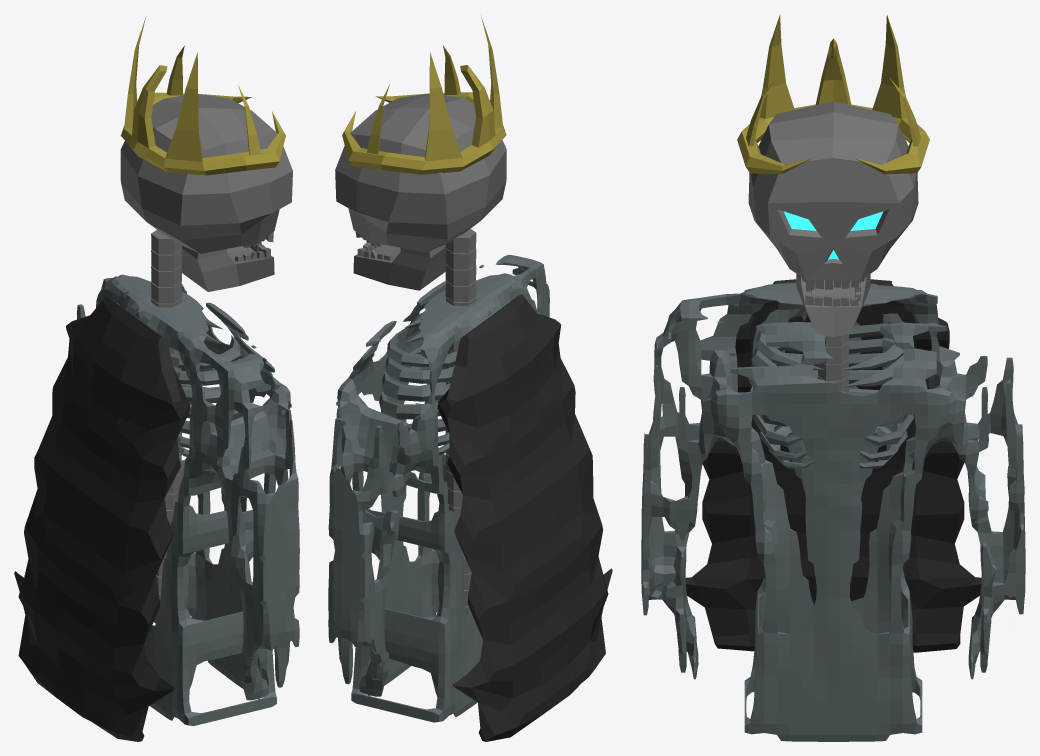
Rendered from Characters_Lich.fbx.
3 renders of one model, left to right at view 1: azimuth 30°, elevation 25°; view 2: azimuth 150°, elevation 25°; view 3: azimuth 270°, elevation 25°, orthographic. The views are drawn at different scales.
Parts seen in each view (by area): view 1: Cube.004, Cube.003, Cube, Torus, Cube.001, Cylinder, Torus.001; view 2: Cube.004, Cube.003, Cube, Torus, Torus.001, Cylinder, Cube.001; view 3: Cube.003, Cube.004, Cube, Torus, Torus.001, Cube.001, Cylinder.
Part boxes in pixels (x1,y1,x2,y2): Cube.004: [14, 296, 190, 741]; Cube.003: [76, 272, 299, 725]; Cube: [120, 94, 292, 253]; Torus: [120, 16, 285, 175]; Cube.001: [181, 243, 274, 291]; Cylinder: [151, 230, 181, 622]; Torus.001: [170, 320, 242, 456]; Cube.004: [437, 294, 612, 741]; Cube.003: [328, 255, 549, 722]; Cube: [335, 93, 506, 252]; Torus: [342, 16, 506, 174]; Torus.001: [379, 318, 457, 454]; Cylinder: [445, 229, 476, 615]; Cube.001: [353, 242, 445, 290]; Cube.003: [641, 282, 1025, 741]; Cube.004: [685, 279, 981, 652]; Cube: [748, 101, 918, 290]; Torus: [737, 14, 929, 174]; Torus.001: [748, 323, 913, 468]; Cube.001: [796, 274, 870, 337]; Cylinder: [818, 333, 848, 393].
Bounding box in the file's own units: 341 × 1098 × 550.
